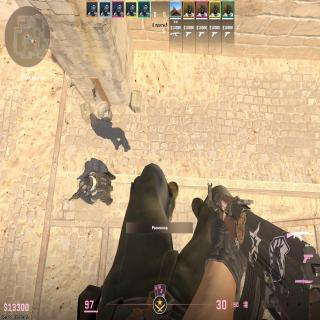CT-Body: (77, 168, 115, 206)
CT-Head: (78, 178, 91, 193)
